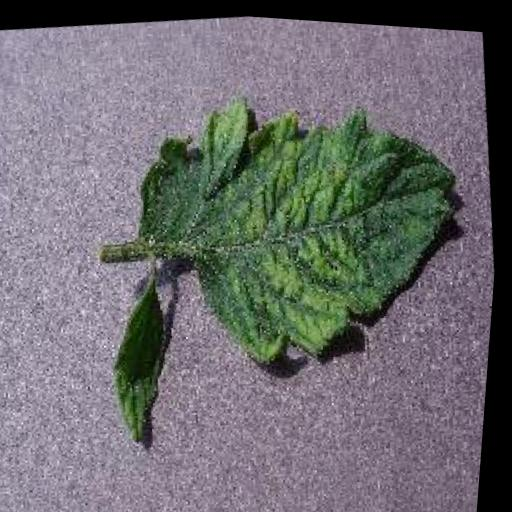Mosaic Virus: (120, 59, 495, 390), (103, 273, 195, 454)
